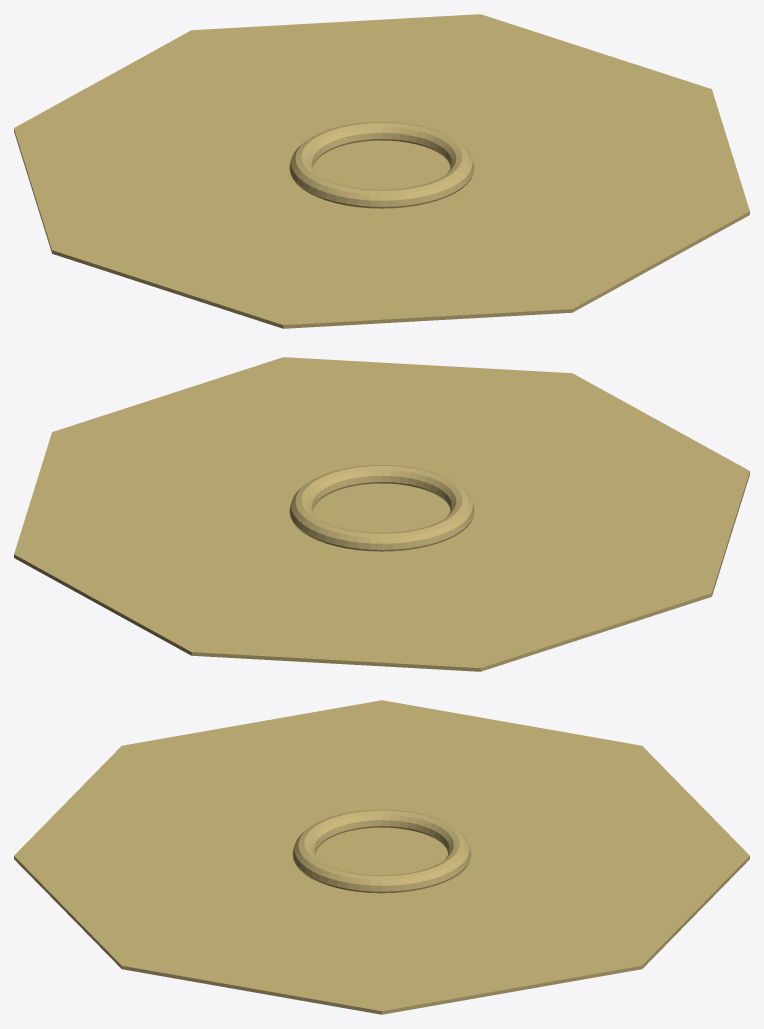
The model's file is dest_pad.glb.
The picture shows the model from 3 angles, top to bottom: view 1: azimuth 30°, elevation 25°; view 2: azimuth 150°, elevation 25°; view 3: azimuth 270°, elevation 25°; orthographic projection. The views are drawn at different scales.
Visible parts, largest first — view 1: Pad_Body, Rim_Ring; view 2: Pad_Body, Rim_Ring; view 3: Pad_Body, Rim_Ring.
Boxes of the visible parts, left/top/right/bottom form: Pad_Body: left=14, top=14, right=749, bottom=328; Rim_Ring: left=289, top=122, right=474, bottom=208; Pad_Body: left=14, top=357, right=749, bottom=671; Rim_Ring: left=289, top=465, right=474, bottom=551; Pad_Body: left=14, top=700, right=749, bottom=1014; Rim_Ring: left=292, top=809, right=471, bottom=893.
Size of the model in its own units: 0.7577 by 0.038 by 0.7577.
